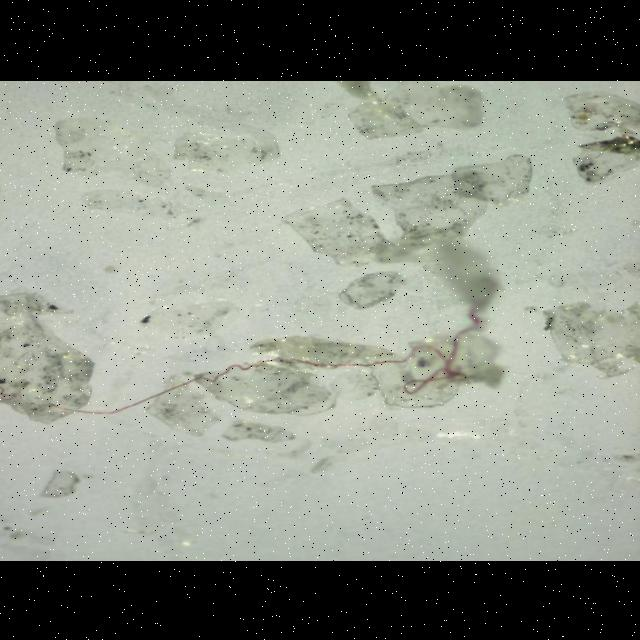Fibre: (20, 298, 494, 420)
